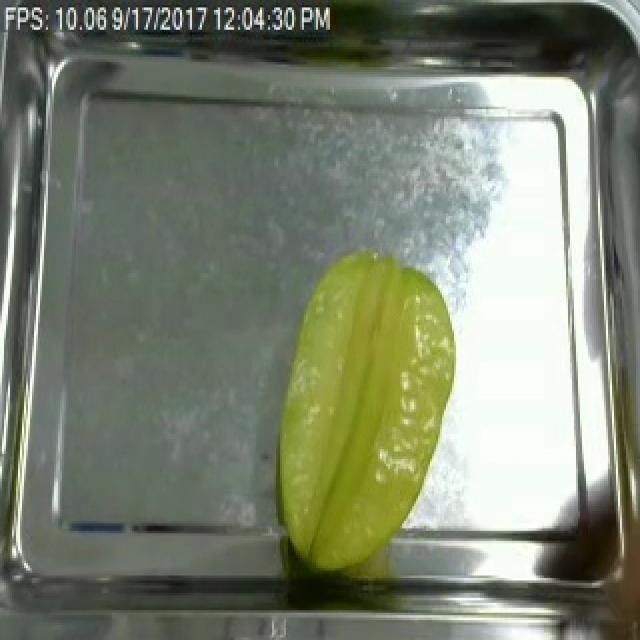fruit: (262, 241, 462, 588)
